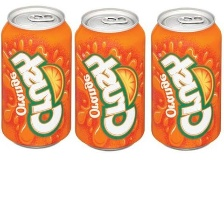can: (71, 5, 148, 159), (0, 0, 74, 155), (150, 3, 222, 153)
